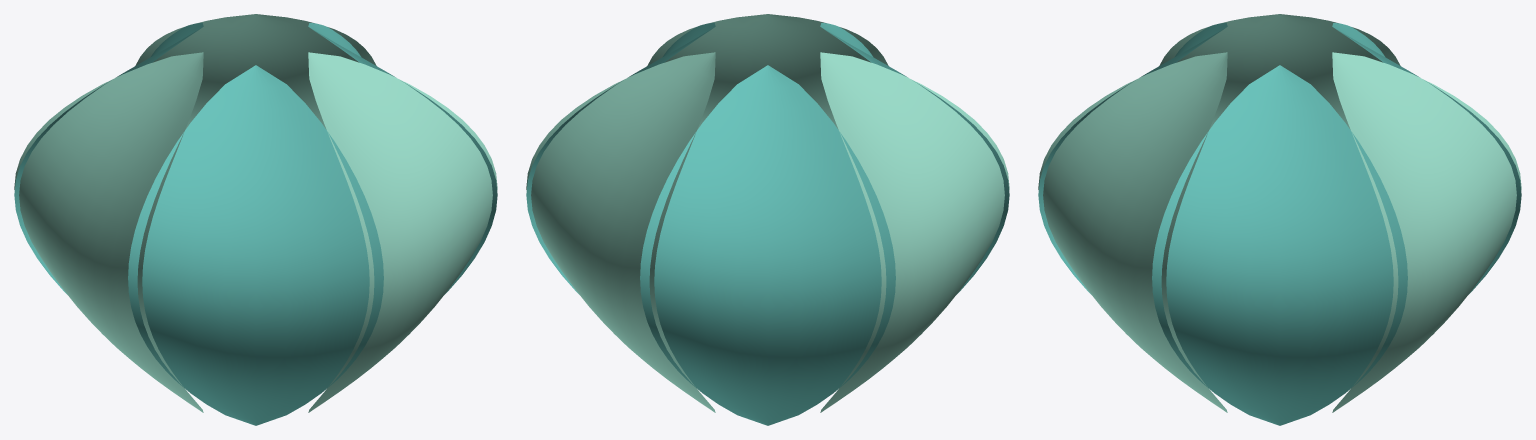
File: breathing-bloom.glb
3 views of the same model, side by side, from view 1: azimuth 30°, elevation 25°; view 2: azimuth 150°, elevation 25°; view 3: azimuth 270°, elevation 25° (orthographic).
Parts seen in each view (by area): view 1: Breathing Bloom; view 2: Breathing Bloom; view 3: Breathing Bloom.
Boxes of the visible parts, x1,y1,x2,y2 form: Breathing Bloom: (14, 14, 497, 425); Breathing Bloom: (526, 14, 1009, 425); Breathing Bloom: (1038, 14, 1521, 425).
Size of the model in its own units: 1.77 by 1.65 by 2.
